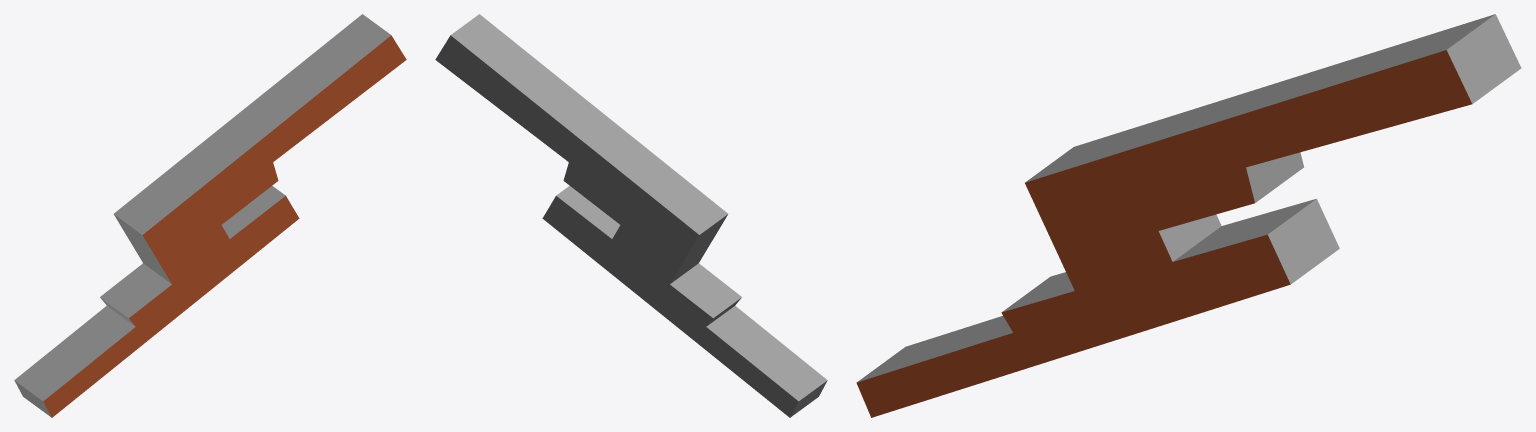
The model's file is construction_3247_assumed_A_Casa_h6m.obj.
3 views of the same model, side by side, from view 1: azimuth 30°, elevation 25°; view 2: azimuth 150°, elevation 25°; view 3: azimuth 330°, elevation 25° (orthographic). The views are drawn at different scales.
Visible parts, largest first — view 1: construction_3247_assumed_A_Casa; view 2: construction_3247_assumed_A_Casa; view 3: construction_3247_assumed_A_Casa.
Part boxes in pixels (left/top/right/bottom): construction_3247_assumed_A_Casa: left=14, top=14, right=406, bottom=417; construction_3247_assumed_A_Casa: left=435, top=14, right=827, bottom=417; construction_3247_assumed_A_Casa: left=856, top=14, right=1521, bottom=417.
Bounding box in the file's own units: 43.44 × 34.26 × 6.
